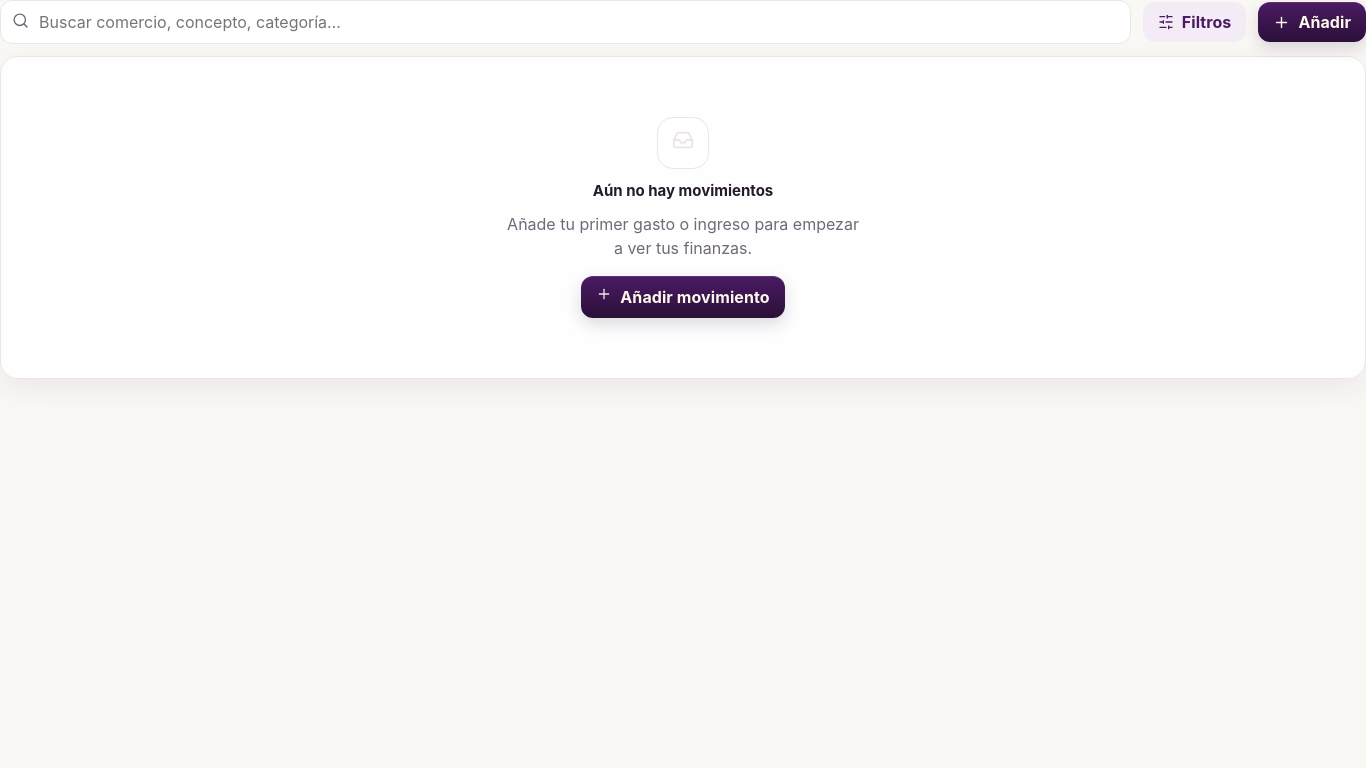
TransactionManager › si el servidor rechaza el alta, la fila se quita y el formulario vuelve con lo escrito
Click the button "Añadir": [1312, 22] box [1258,2,1365,42]
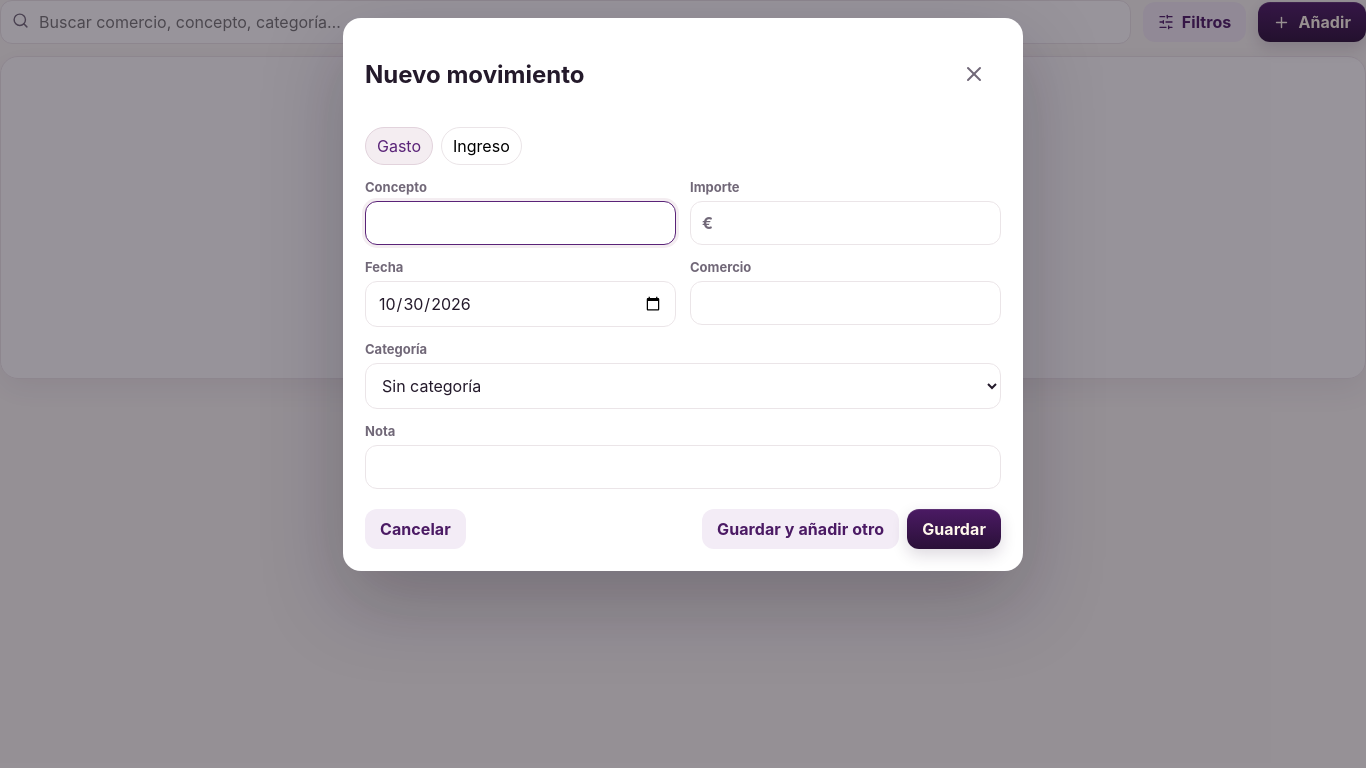
In the field labelled "Concepto": [520, 223] box [365,201,676,245], type "Gasolina"
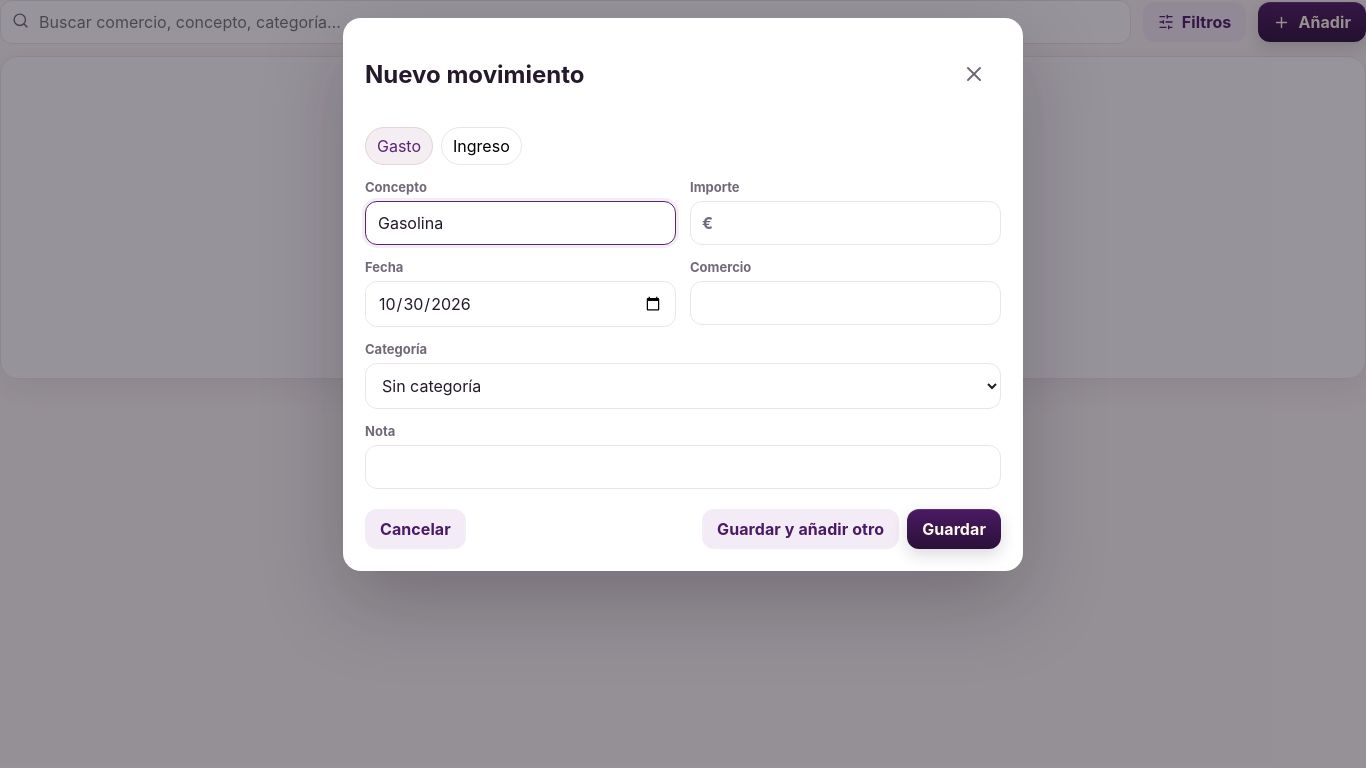
In the field labelled "Importe": [846, 223] box [690,201,1001,245], type "40"
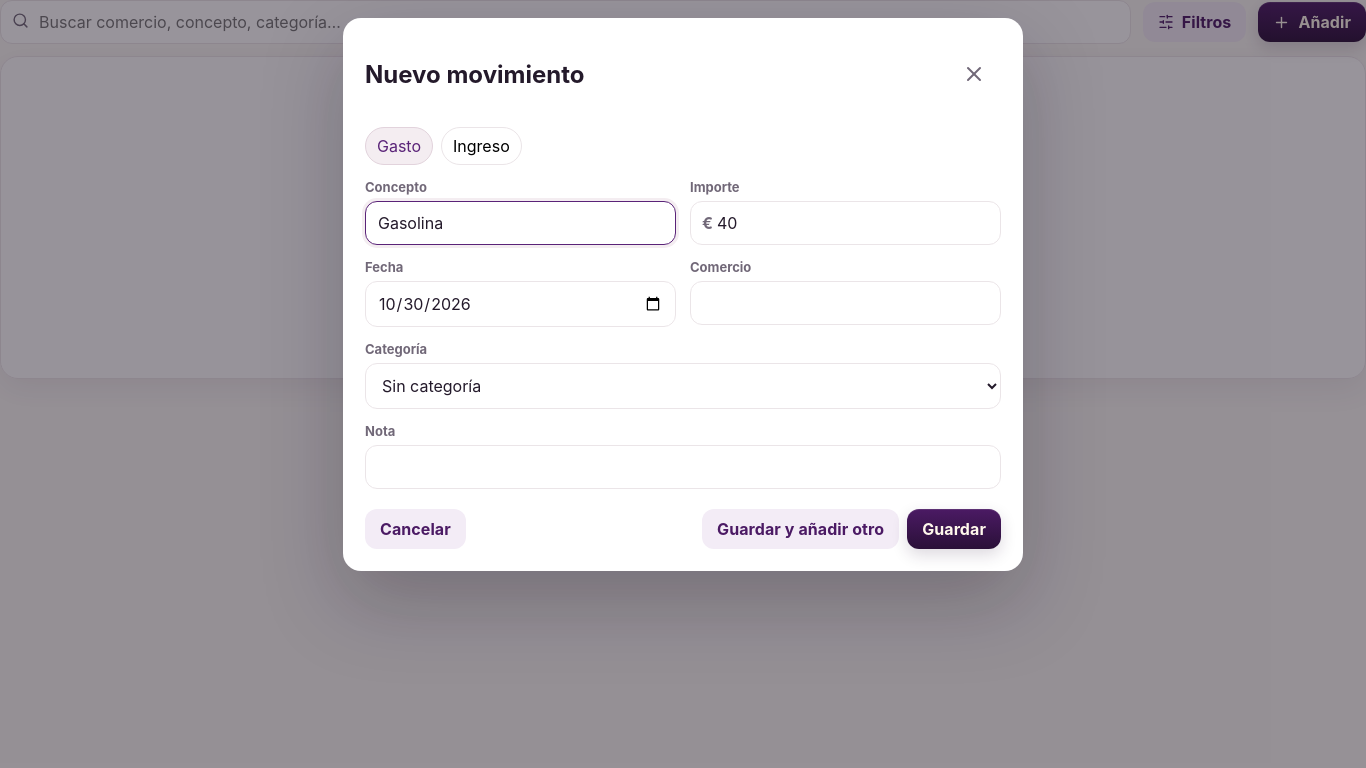
Submit the dialog, box [343,18,1023,571]
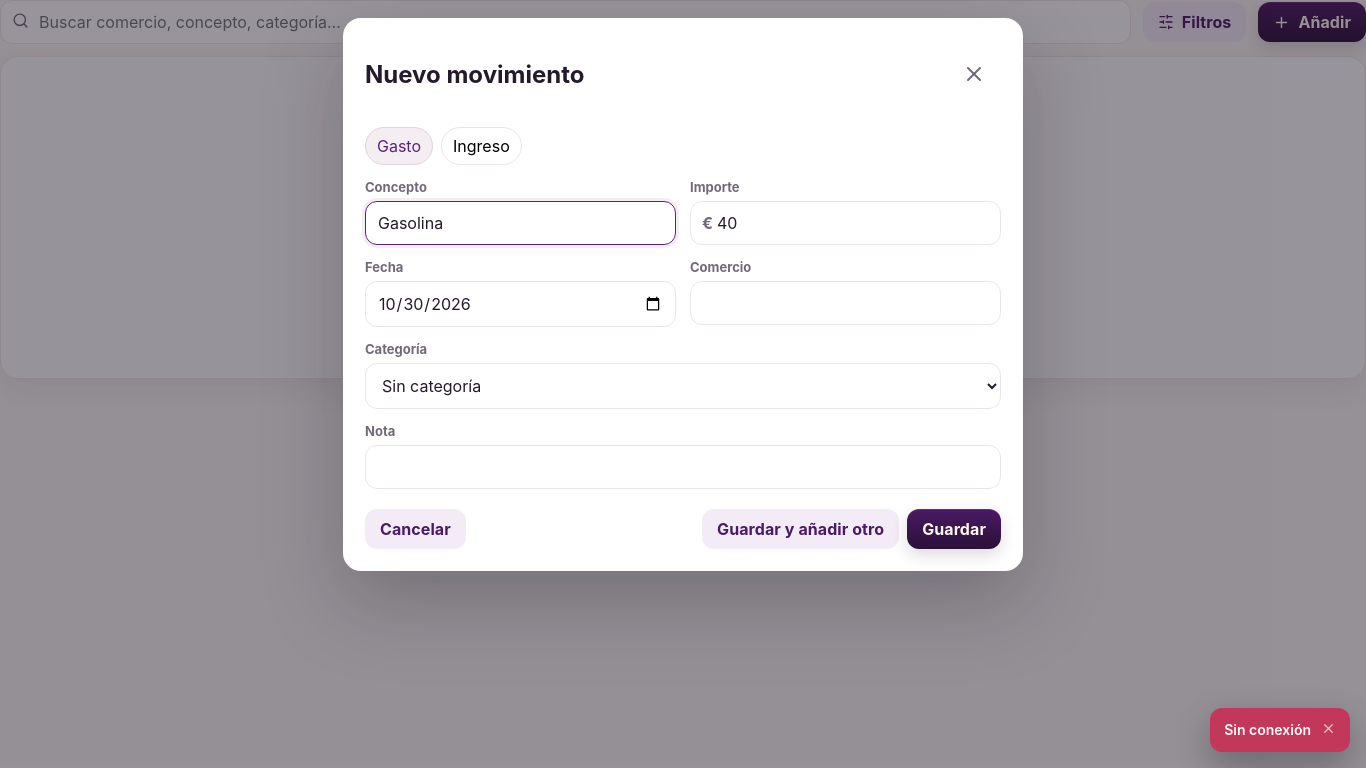
Result: the field labelled "Concepto" holds "Gasolina" at [365,201,676,245]
Result: the message reads "Sin conexión" at [1224,721,1311,738]
